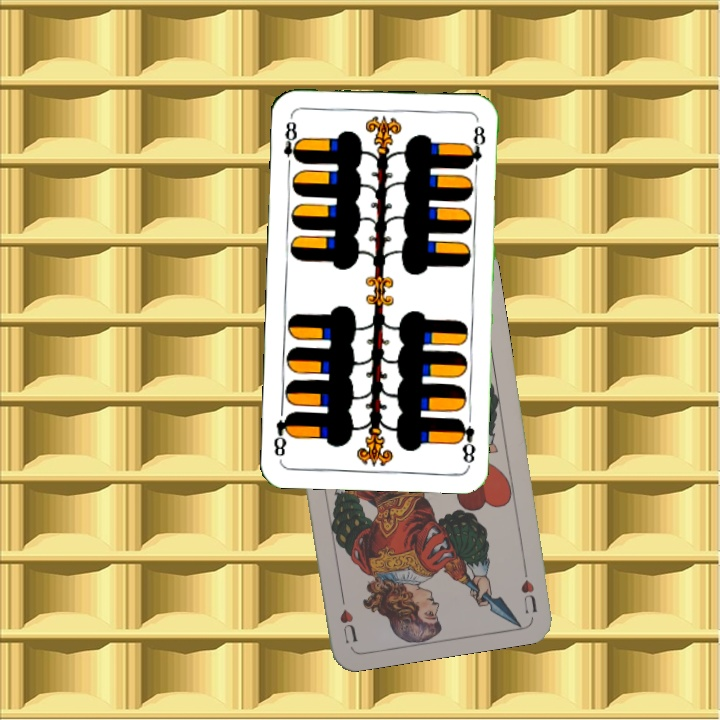E8: (280, 118, 304, 172), (454, 414, 478, 467)
HU: (517, 558, 540, 616)
